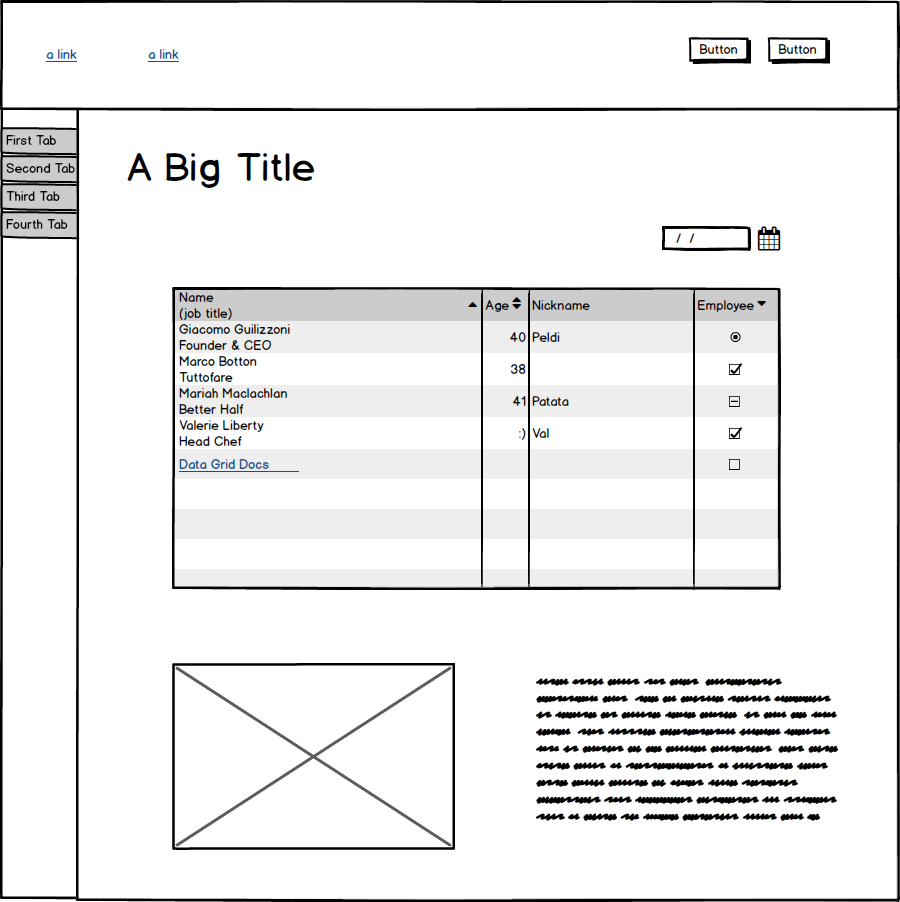button: (764, 33, 838, 70), (686, 31, 753, 70)
date_picker: (652, 219, 797, 260)
h1: (122, 148, 318, 190)
image: (165, 659, 461, 860)
navlink: (38, 41, 87, 65), (142, 42, 185, 68)
p: (531, 667, 846, 833)
sidebar: (2, 118, 87, 244)
table: (165, 281, 786, 597)
